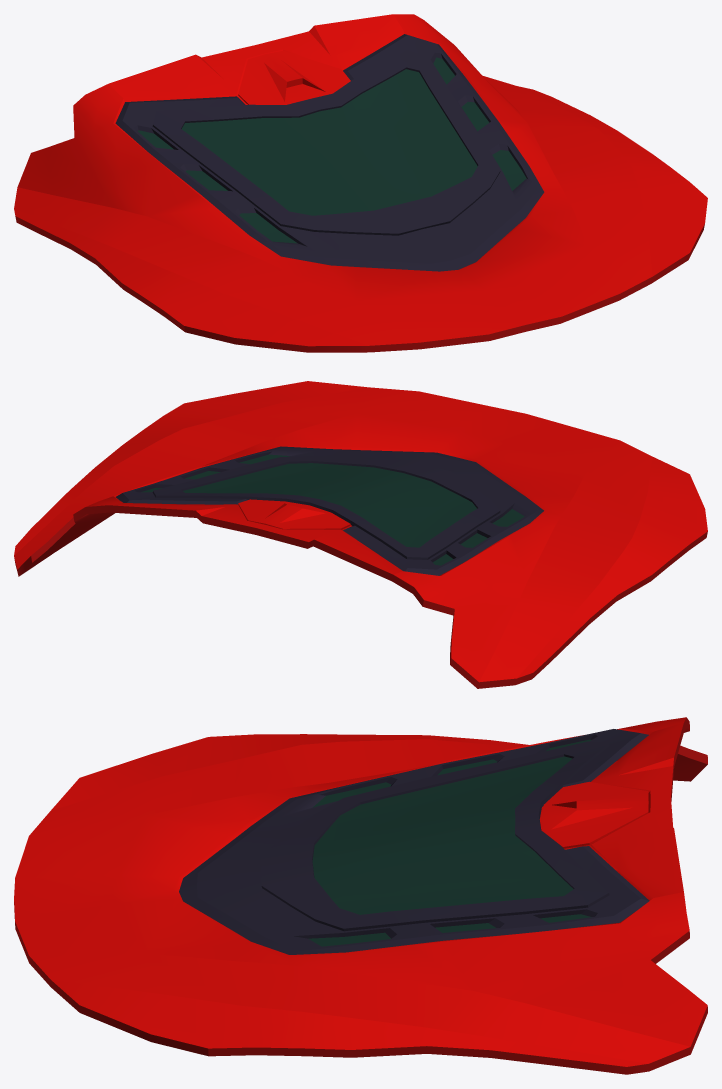
File: Car01_Cap.fbx
3 views of the same model, one above another, from view 1: azimuth 30°, elevation 25°; view 2: azimuth 150°, elevation 25°; view 3: azimuth 270°, elevation 25° (orthographic). The views are drawn at different scales.
Parts seen in each view (by area): view 1: Car_1.001; view 2: Car_1.001; view 3: Car_1.001.
Part boxes in pixels (<box>): Car_1.001: <box>14,14,707,352</box>; Car_1.001: <box>14,381,707,688</box>; Car_1.001: <box>14,717,707,1074</box>.
Bounding box in the file's own units: 161 × 30.94 × 150.
